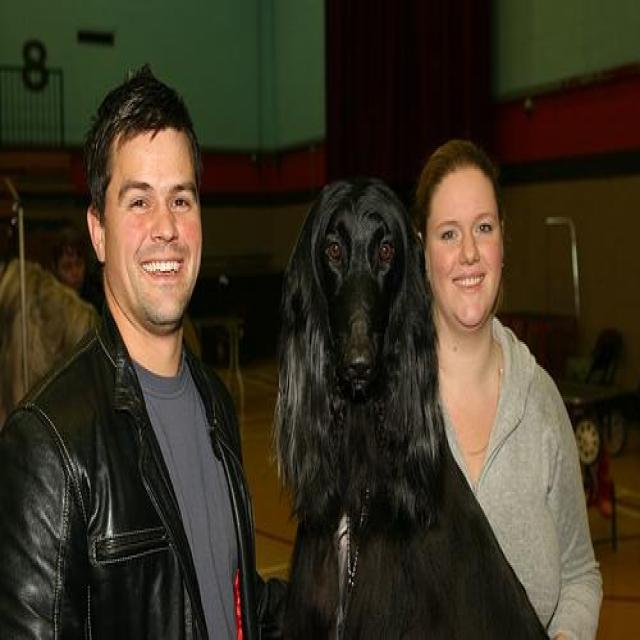afghan_hound: (274, 177, 549, 638)
